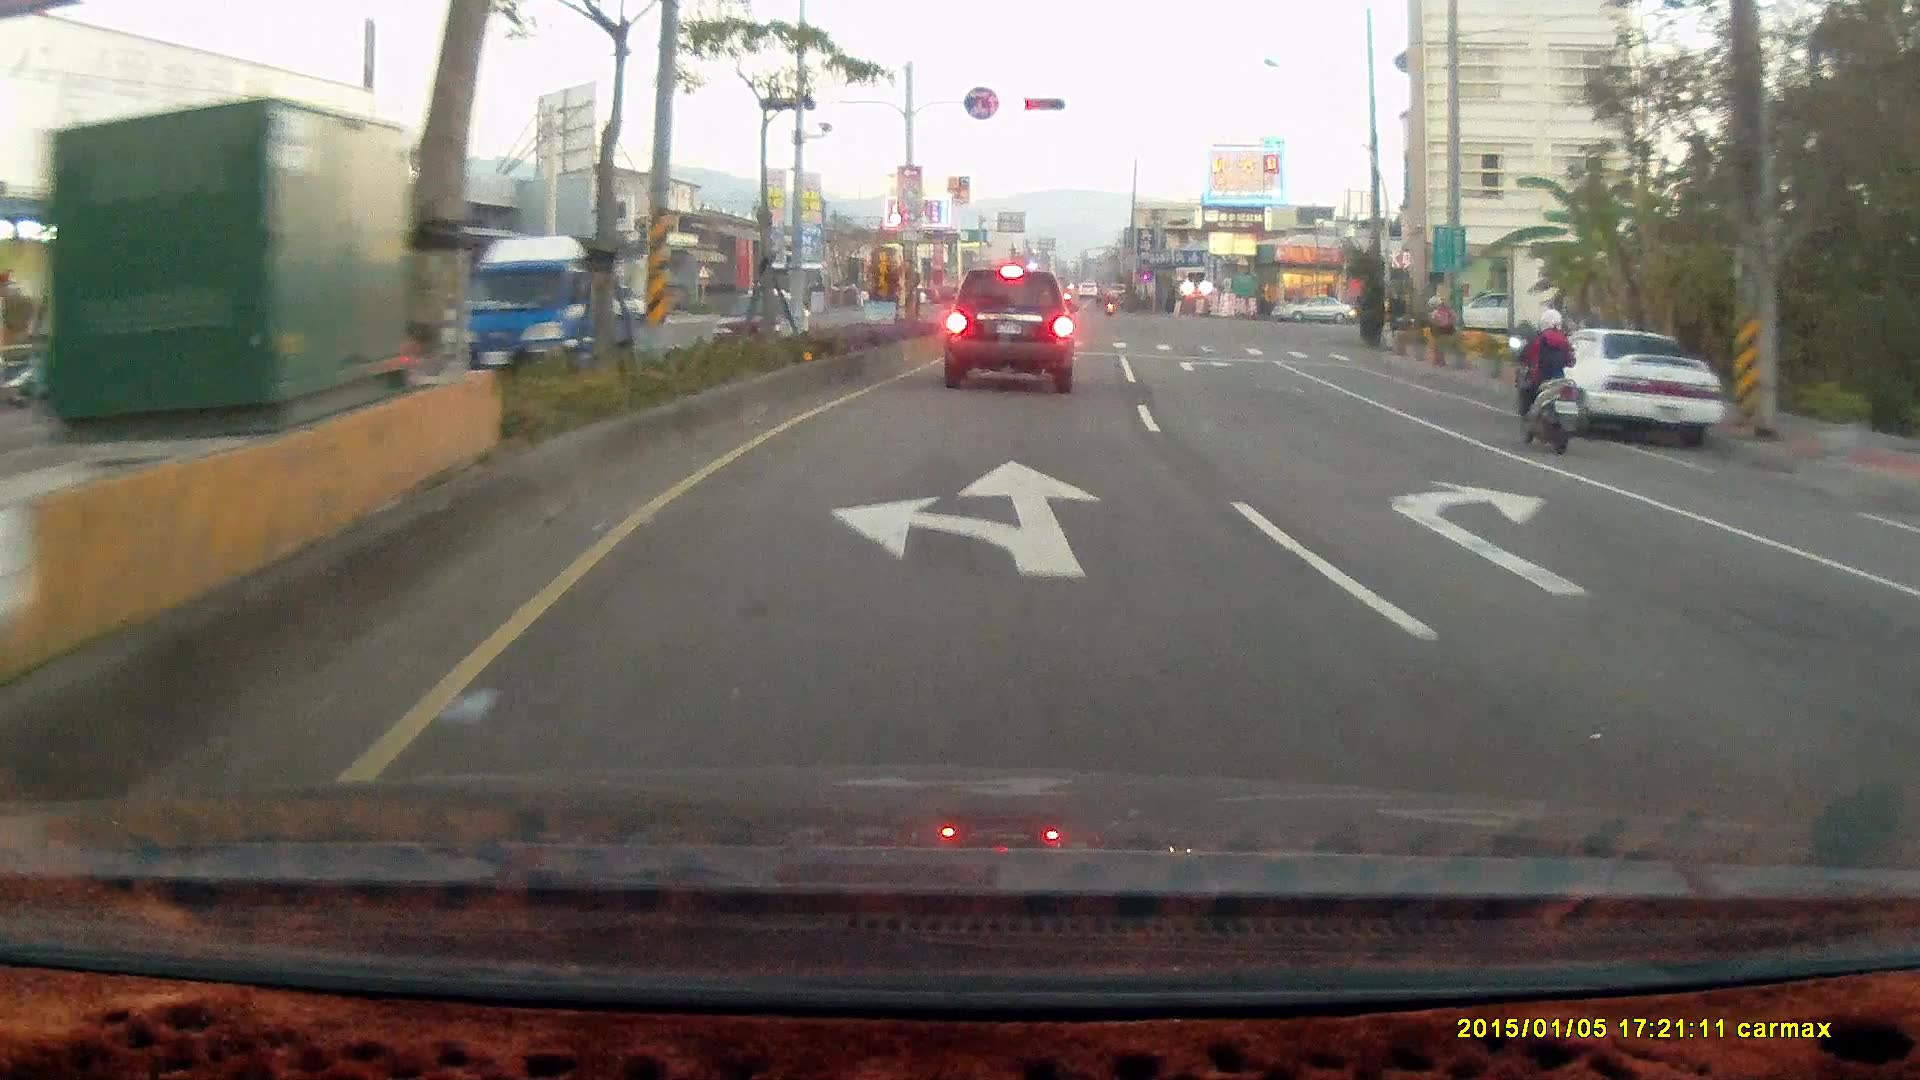rider: (1503, 307, 1583, 455)
vehicle: (438, 234, 644, 379), (1528, 328, 1724, 449), (1534, 329, 1732, 443), (942, 266, 1077, 393), (1896, 493, 1920, 836), (1883, 528, 1920, 690), (1435, 288, 1537, 336), (1270, 292, 1355, 324)
